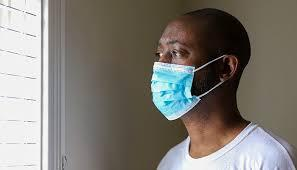Wearing Mask: (148, 26, 256, 128)
